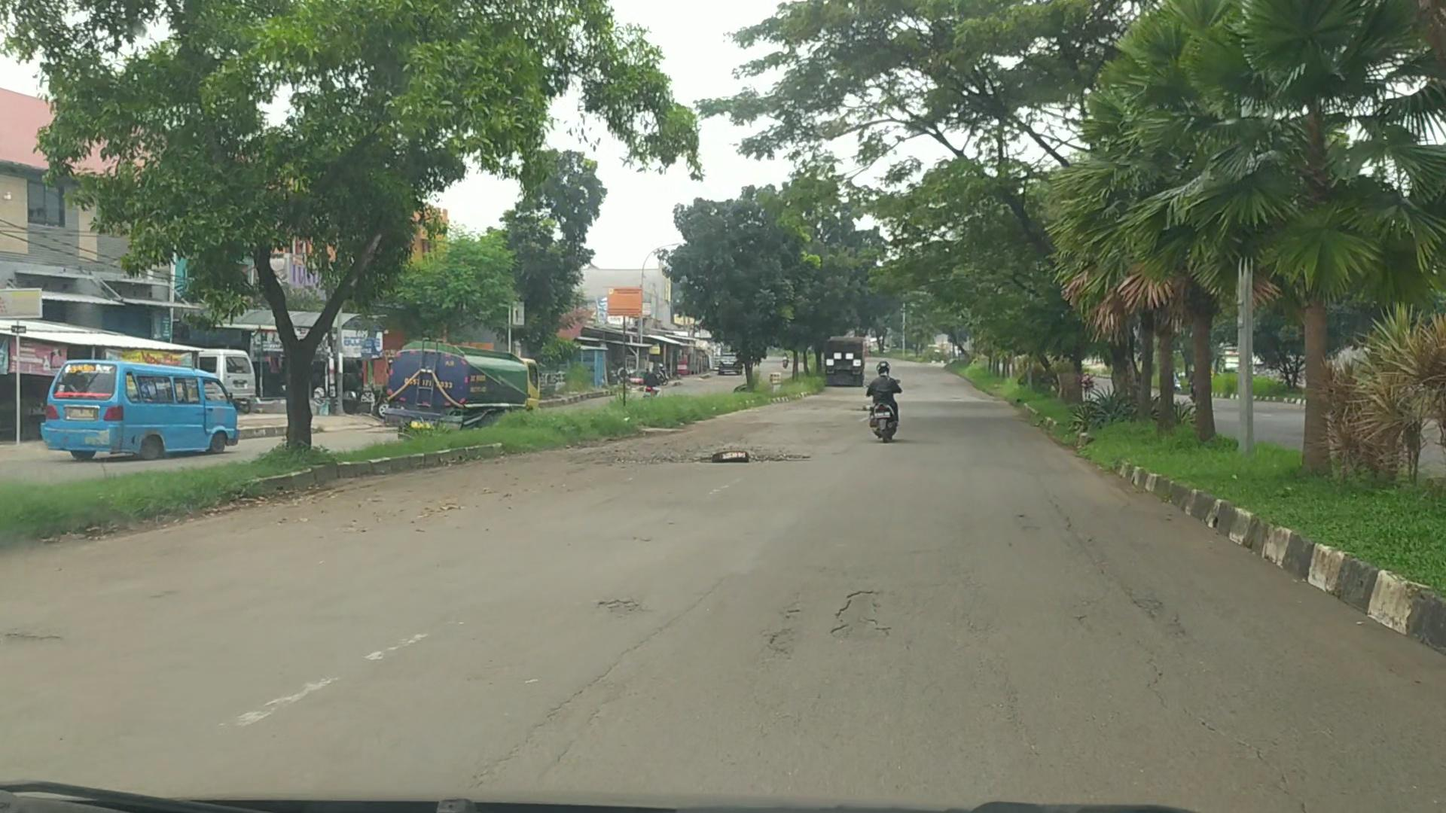pothole: (824, 586, 894, 642), (599, 597, 645, 616)
